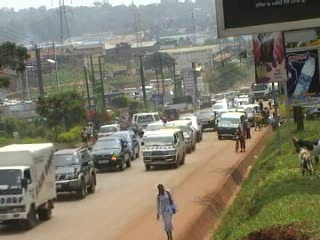Car: (52, 145, 99, 200), (85, 135, 132, 172), (107, 126, 142, 160), (193, 105, 218, 135), (140, 119, 168, 144), (94, 123, 126, 144)
